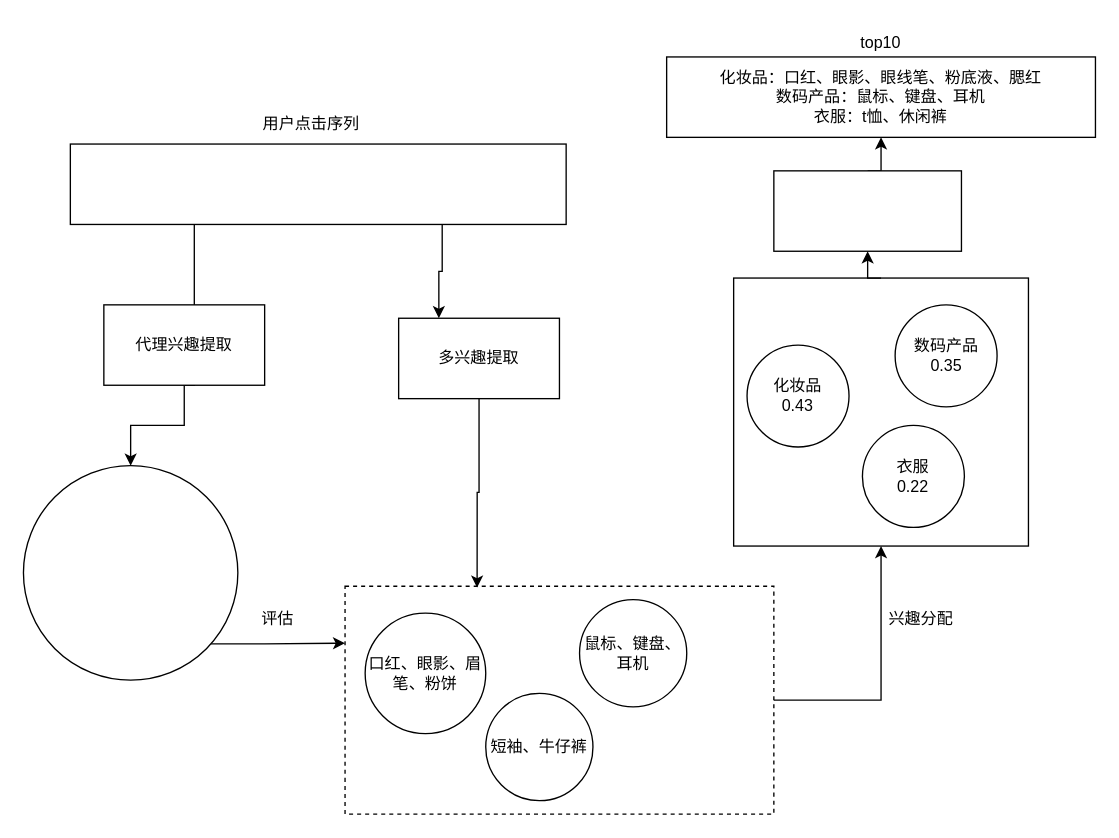
The diagram is 1119 pixels wide and 838 high, and some of its shapes have lost their labels. Each missing label, with the centre of its shape:
KNN （k-nearest neighbors）: the point at 867,210
代理兴趣 （整体兴趣）: the point at 130,572
口红、眼影、鼠标、键盘、短袖、牛仔裤、耳机、眉笔、粉饼: the point at 317,183
